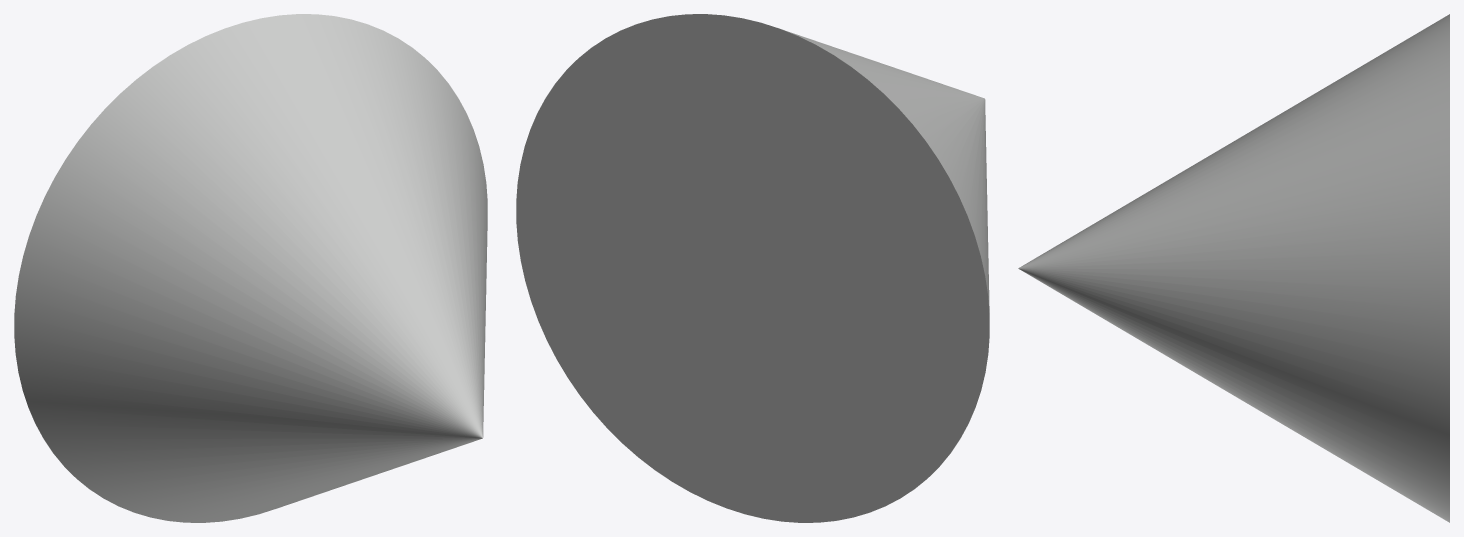
The picture shows the model from 3 angles, left to right: view 1: azimuth 30°, elevation 25°; view 2: azimuth 150°, elevation 25°; view 3: azimuth 270°, elevation 25°; orthographic projection. The views are drawn at different scales.
Visible parts, largest first — view 1: root; view 2: root; view 3: root.
Part boxes in pixels (x1,y1,x2,y2): root: (14, 14, 487, 522); root: (516, 14, 989, 522); root: (1018, 14, 1449, 522).
Size of the model in its own units: 0.9685 by 0.9685 by 0.8223.
1 material, 1 textured.
